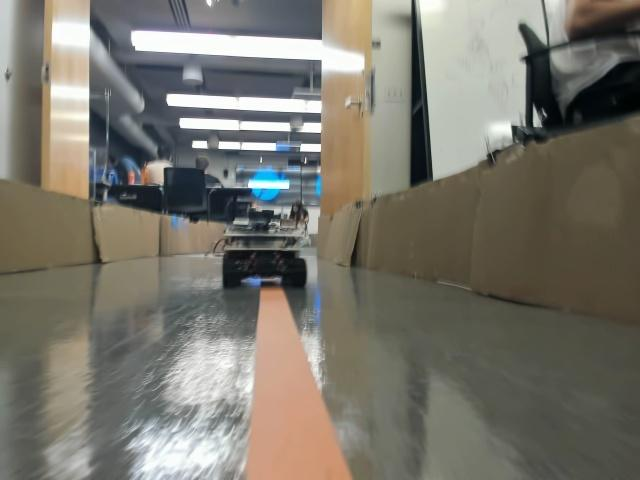Car: (220, 207, 307, 289)
